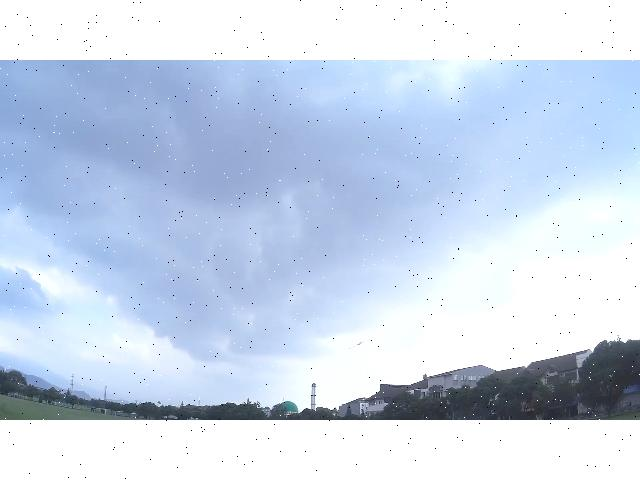Anti-Drone: (348, 338, 368, 349)
